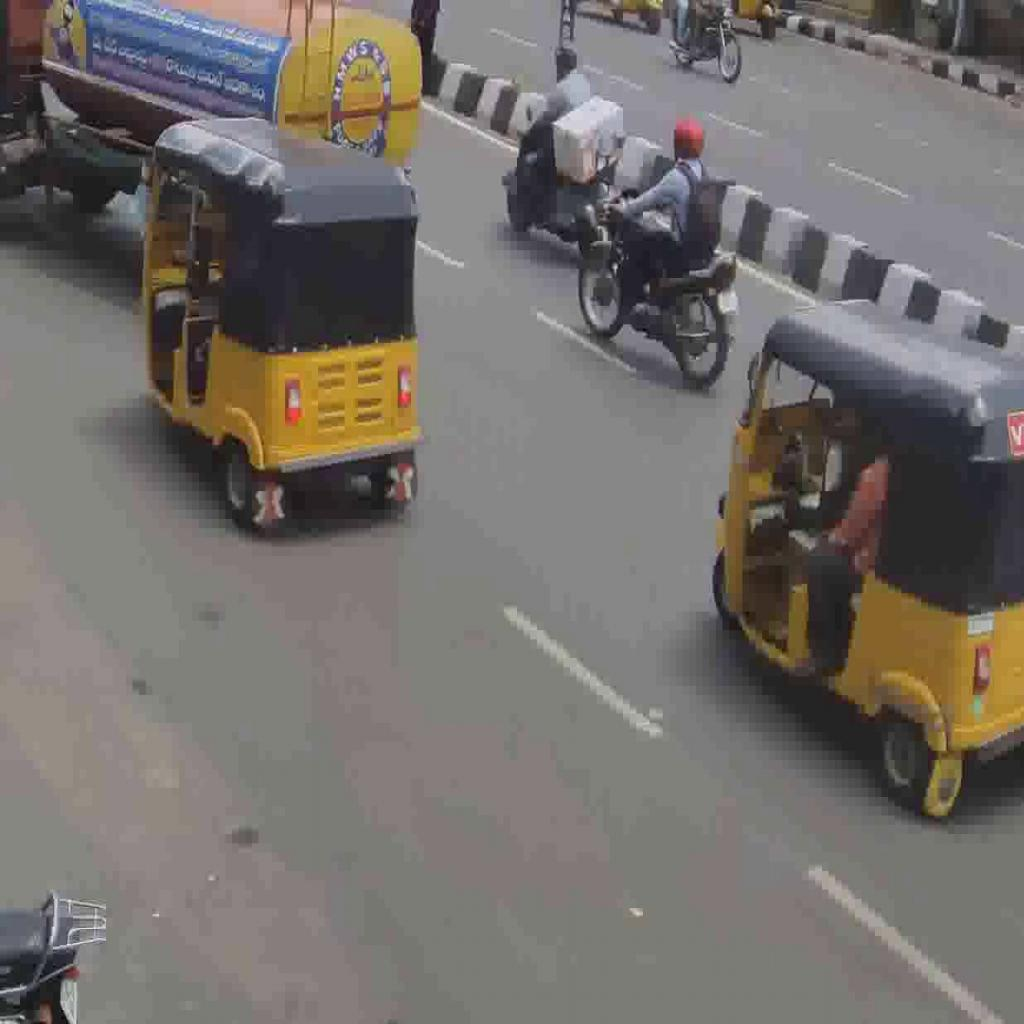helmet: (576, 187, 740, 393), (505, 106, 621, 260)
